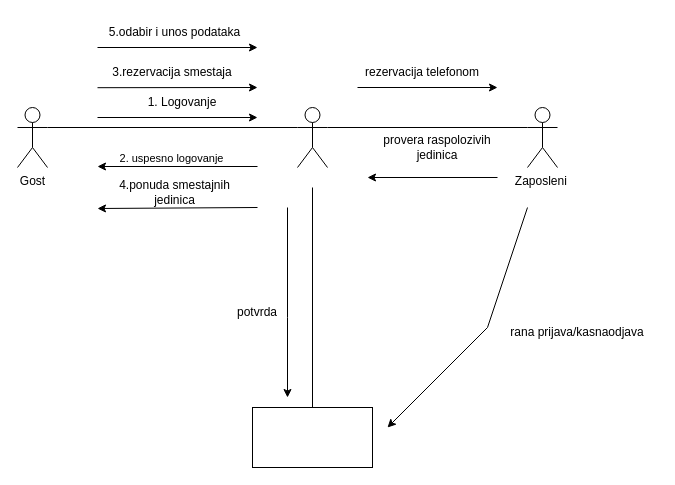
This 675x485 diagram has some shape labels left out. The box of each missing label's shape, as (x1, y1, x2, y2) in pixels:
Projekat: Rezervacija sobe: (252, 406, 372, 468)
Sistem: (296, 106, 328, 168)
